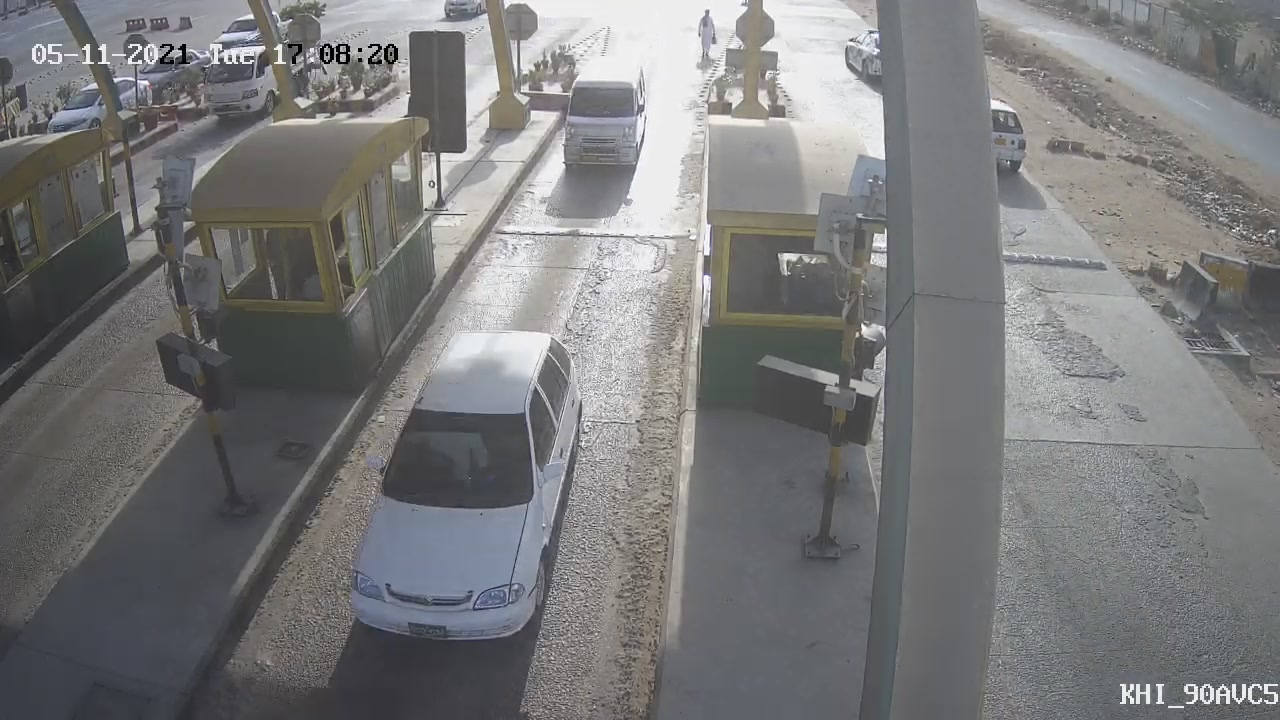F1: (339, 311, 578, 646), (540, 47, 664, 187)
